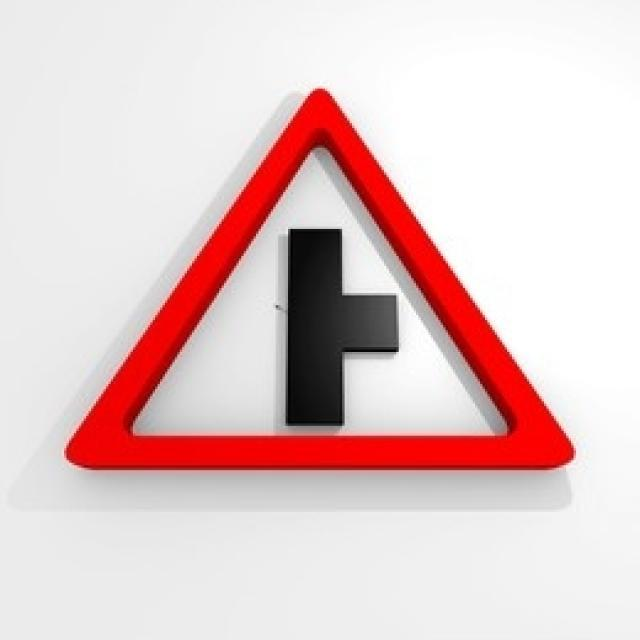side road right: (64, 87, 572, 470)
